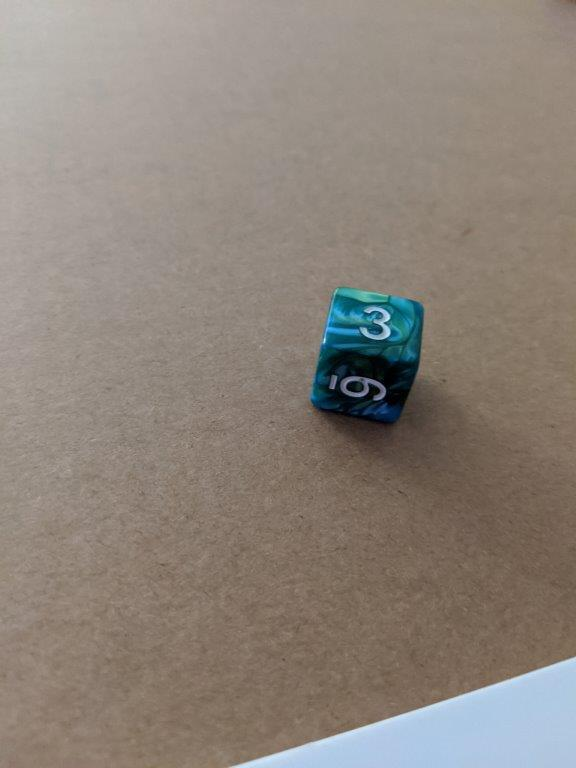d6-3: (307, 285, 424, 427)
